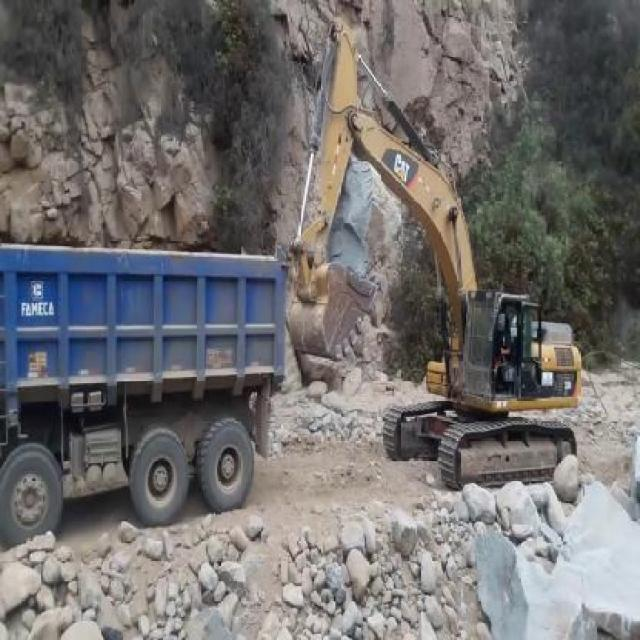Dump Truck: (0, 238, 286, 554)
Excavator: (285, 19, 581, 492)
